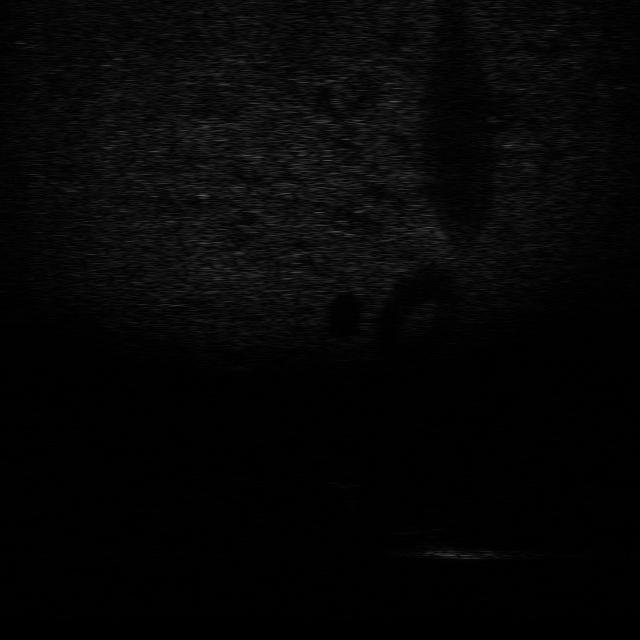ball: (325, 464, 367, 491)
metal bucket: (400, 539, 530, 566)
tyre: (385, 505, 457, 536)
